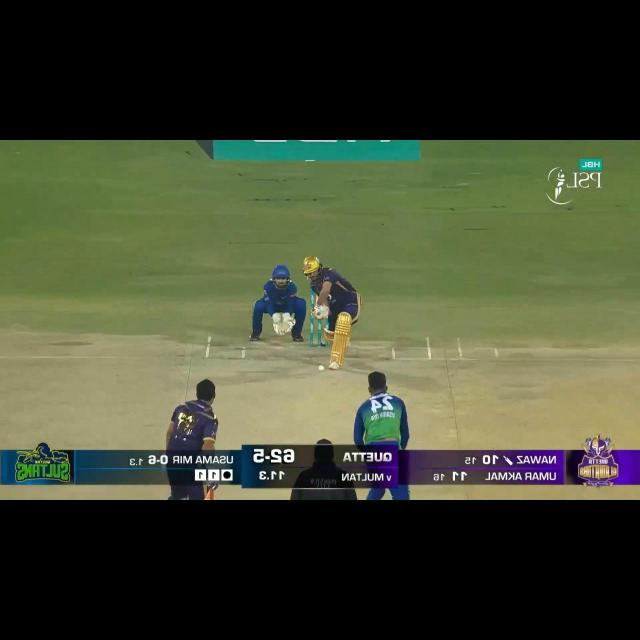bat: (309, 307, 320, 318)
